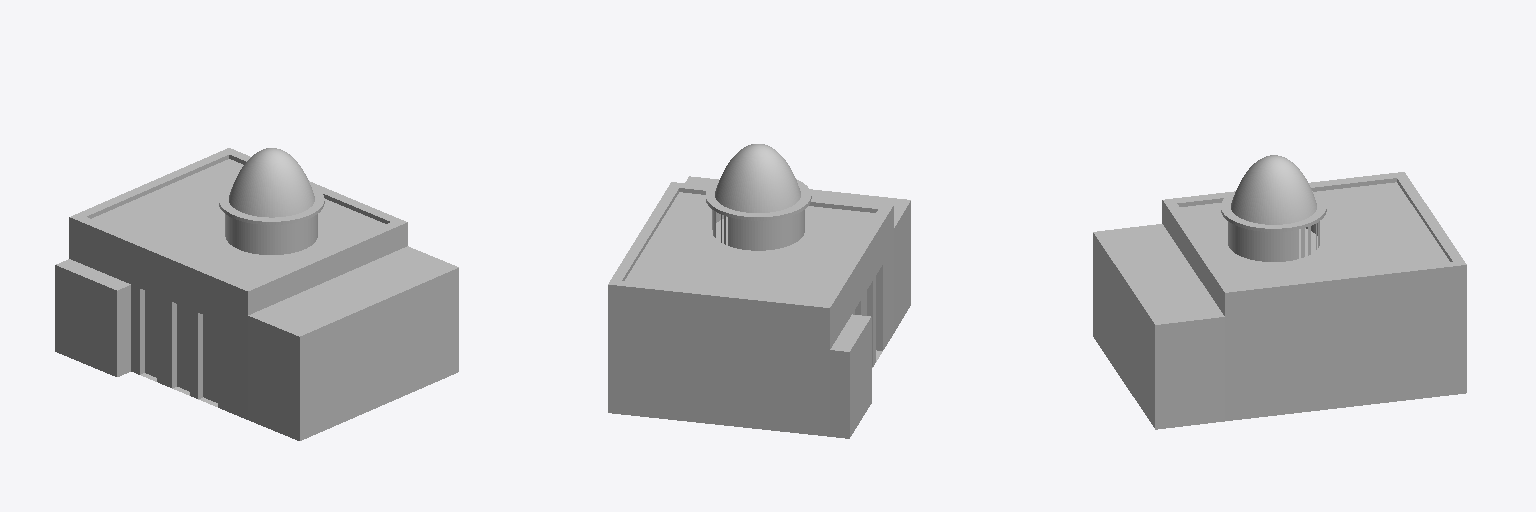
Rendered from mosque.obj.
3 renders of one model, left to right at view 1: azimuth 30°, elevation 25°; view 2: azimuth 150°, elevation 25°; view 3: azimuth 270°, elevation 25°, orthographic.
Visible parts, largest first — view 1: Cube.001_Cube.002; view 2: Cube.001_Cube.002; view 3: Cube.001_Cube.002.
Part boxes in pixels (left/top/right/bottom): Cube.001_Cube.002: left=55, top=148, right=458, bottom=440; Cube.001_Cube.002: left=608, top=144, right=910, bottom=438; Cube.001_Cube.002: left=1093, top=155, right=1466, bottom=429.
Bounding box in the file's own units: 21.37 × 15.18 × 24.52.